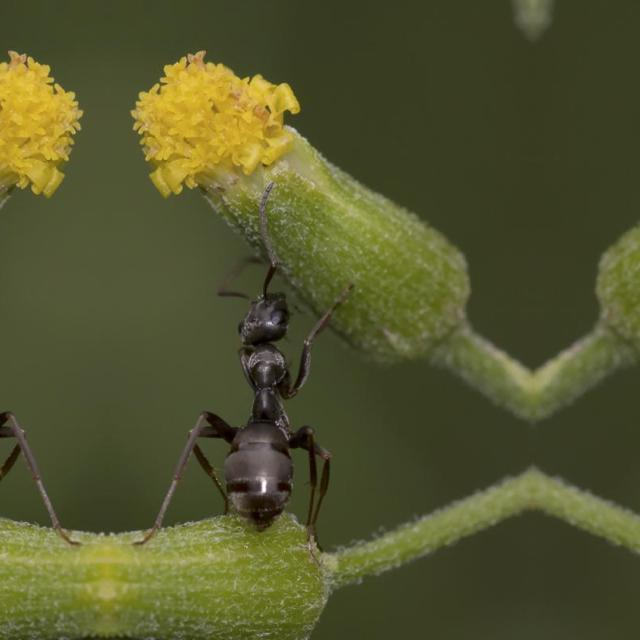Formica: (172, 259, 346, 553), (0, 259, 40, 553)
